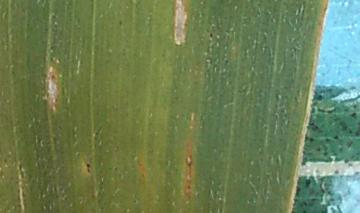tarspot: (83, 161, 94, 174), (207, 30, 215, 41)
